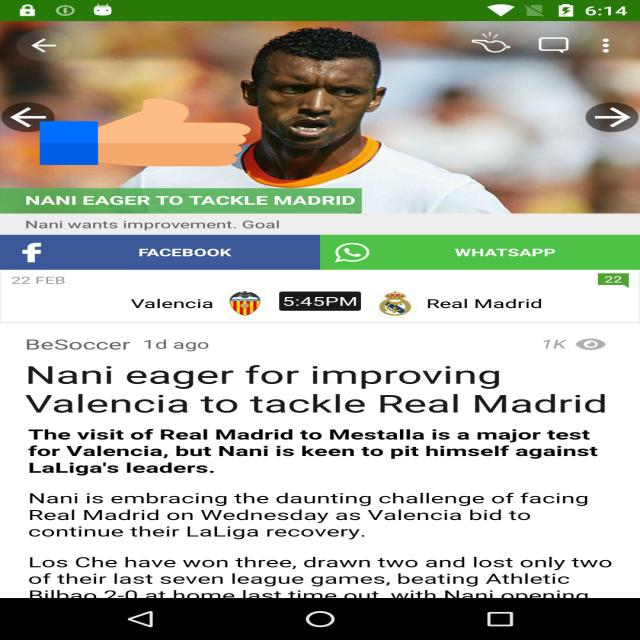privacy zuckering: (39, 97, 250, 168)
